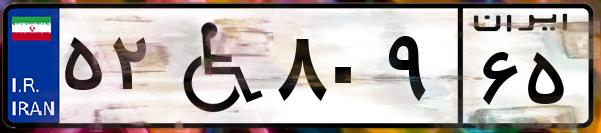0: (330, 28, 385, 110)
2: (110, 28, 158, 98)
5: (57, 26, 110, 100), (525, 38, 570, 115)
6: (475, 38, 525, 113)
8: (270, 28, 330, 110)
9: (385, 28, 445, 110)
ژ (معلولین و جانبازان): (158, 12, 270, 120)
